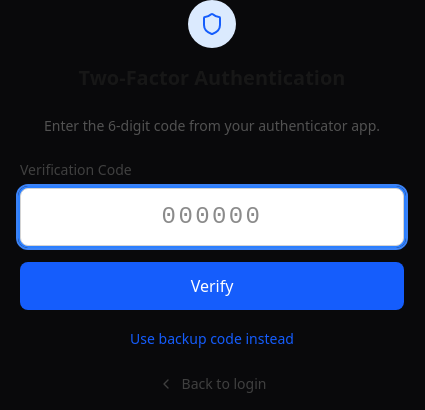
Scenario: TwoFactorVerify › code input › accepts only numeric input
Type "abc123" into the field labelled "Verification Code".
click(212, 217); type("abc123")  # box 20,188 -> 404,246
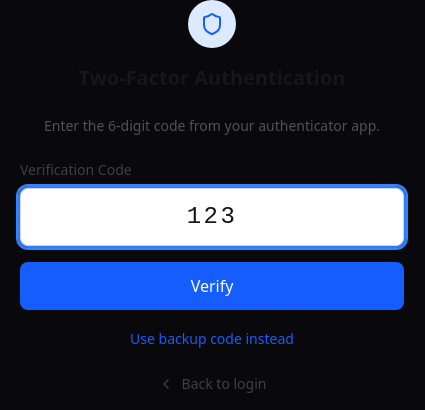
Now the field labelled "Verification Code" holds "123", box 20,188 -> 404,246
